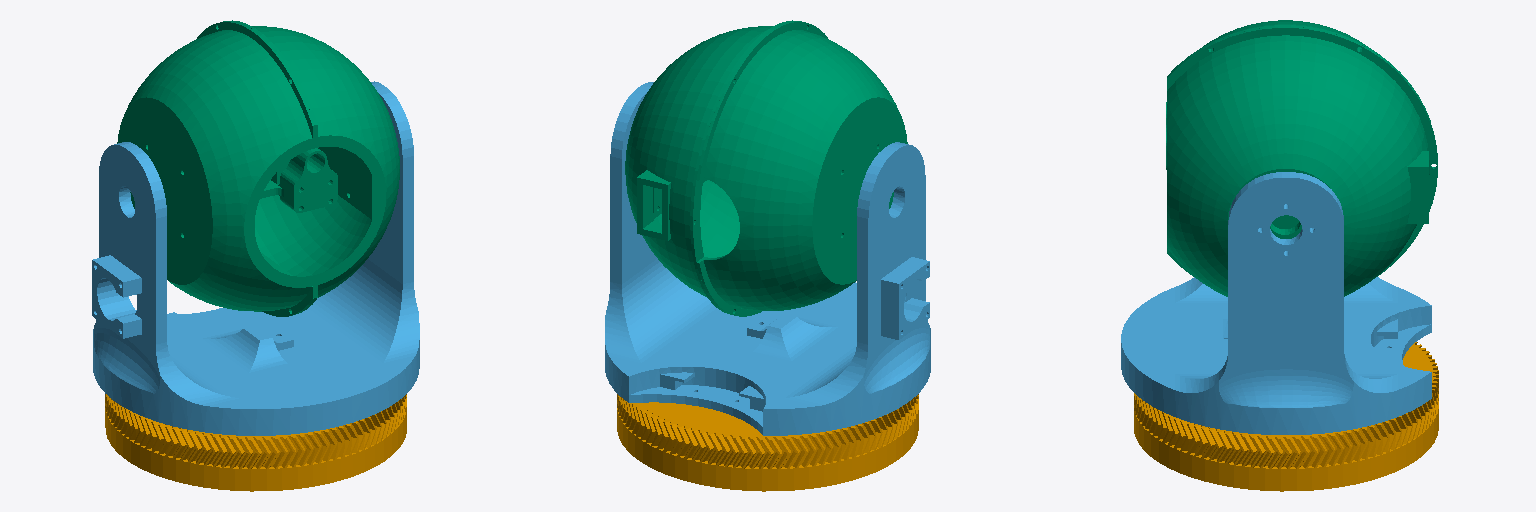
URDF robot description (wiezyczka_pan_tilt):
<?xml version="1.0"?>
<robot name="wiezyczka_pan_tilt">

  <link name="base_link">
    <visual>
      <origin xyz="0 0 0" rpy="0 0 0"/>
      <geometry>
        <mesh filename="package://pan_tilt_description/meshes/base.stl" />
      </geometry>
    </visual>
  </link>

  <joint name="pan_joint" type="revolute">
    <parent link="base_link"/>
    <child link="pan_link"/>
    <origin xyz="0 0 40" rpy="0 0 0"/> 
    <axis xyz="0 0 1"/> 
    <limit lower="-3.14" upper="3.14" effort="10.0" velocity="1.0"/>
  </joint>

  <link name="pan_link">
    <visual>
      <origin xyz="0 0 0" rpy="0 0 0"/>
      <geometry>
        <mesh filename="package://pan_tilt_description/meshes/pan_link.stl" />
      </geometry>
    </visual>
  </link>

  <joint name="tilt_joint" type="revolute">
    <parent link="pan_link"/>
    <child link="tilt_link"/>
    <origin xyz="10 0 120" rpy="0 0 3.14159"/> 
    <axis xyz="1 0 0"/> 
    <limit lower="-1.57" upper="1.57" effort="10.0" velocity="1.0"/>
  </joint>

  <link name="tilt_link">
    <visual>
      <origin xyz="0 0 0" rpy="0 0 0"/> 
      <geometry>
        <mesh filename="package://pan_tilt_description/meshes/tilt_link.stl" />
      </geometry>
    </visual>
  </link>

</robot>

--- What the picture shows (computed from the rendered views, not written in the file) ---
The picture shows the robot from 3 angles, left to right: view 1: azimuth 30°, elevation 25°; view 2: azimuth 150°, elevation 25°; view 3: azimuth 270°, elevation 25°; orthographic projection.
Model wiezyczka_pan_tilt with 3 links and 2 joints (2 revolute), rooted at base_link, posed all joints at 0.
Visible links, largest first — view 1: tilt_link, pan_link, base_link; view 2: tilt_link, pan_link, base_link; view 3: pan_link, tilt_link, base_link.
Boxes of the visible links, x1,y1,x2,y2 form: tilt_link: [117, 20, 399, 316]; pan_link: [92, 81, 419, 435]; base_link: [105, 394, 406, 491]; tilt_link: [625, 20, 907, 316]; pan_link: [605, 82, 930, 435]; base_link: [617, 394, 918, 491]; pan_link: [1121, 172, 1431, 434]; tilt_link: [1166, 20, 1437, 296]; base_link: [1134, 342, 1438, 491].
Size in the robot's own frame: 204 by 192 by 267 metres.
3 mesh visuals loaded from 3 distinct referenced files (3 binary STL).
